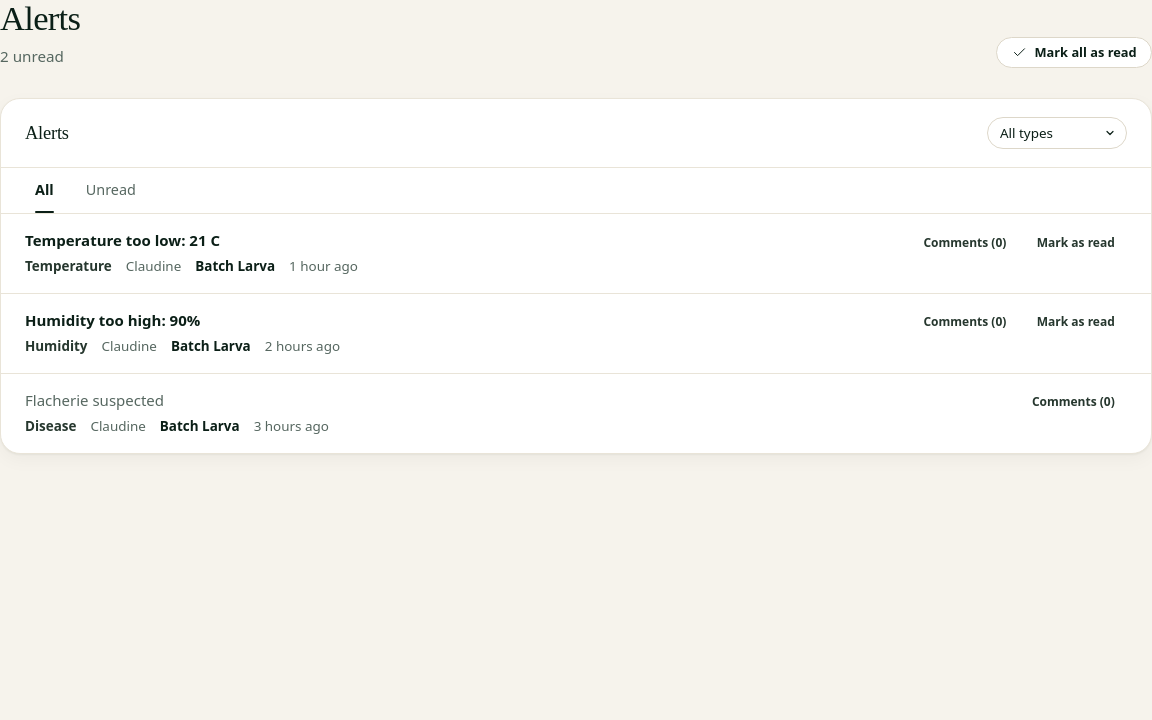
Test case: Alerts page › asks, then marks all read and says so
Check: the text "2 unread" is shown, box [0,46,64,66]
Click the button "Mark all as read".
click(1074, 53)  # box [996,37,1151,68]
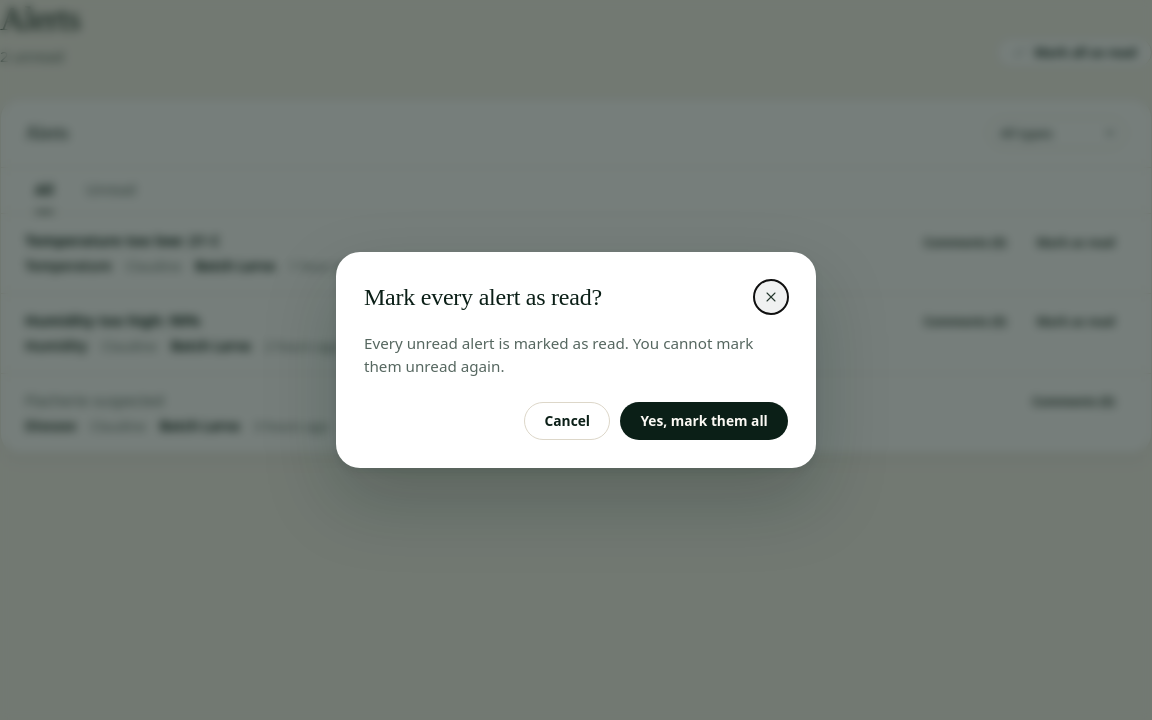
Click the button "Yes, mark them all".
click(704, 421)  # box [620,402,788,440]
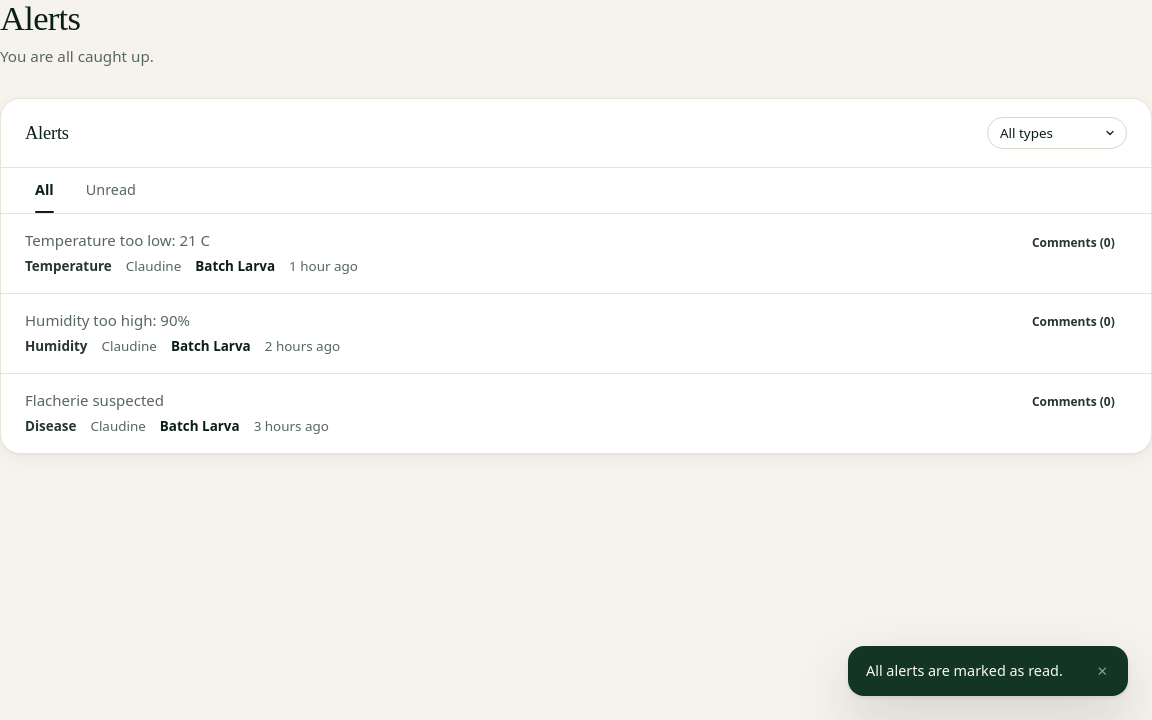
Check: the text "All alerts are marked as read." is shown, box [866,660,1083,682]
Check: the button "Mark all as read" is gone
